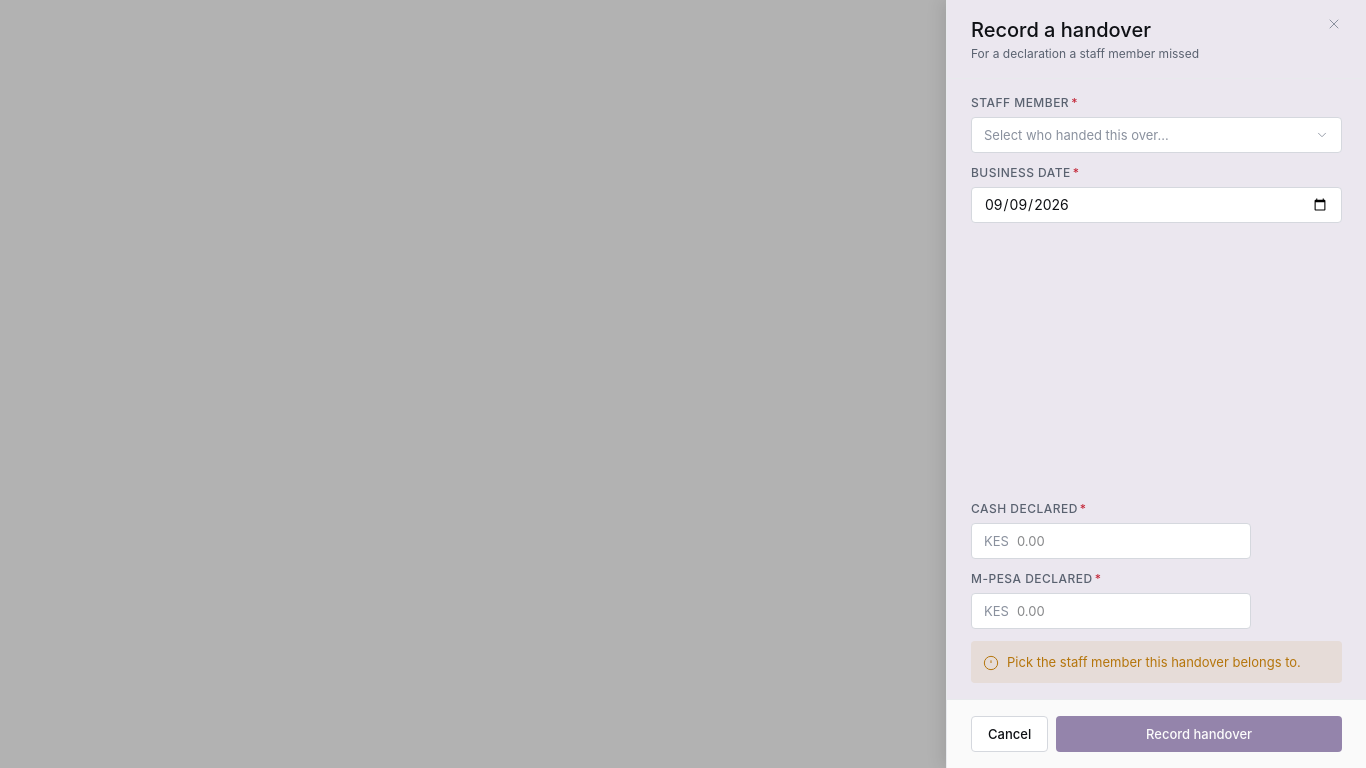
Test: RecordHandoverDrawer › filters the staff options to cashier / canteen_attendant, active only
Click the dropdown named "Staff member" at {"x": 1156, "y": 135}, box [971,117,1342,153]
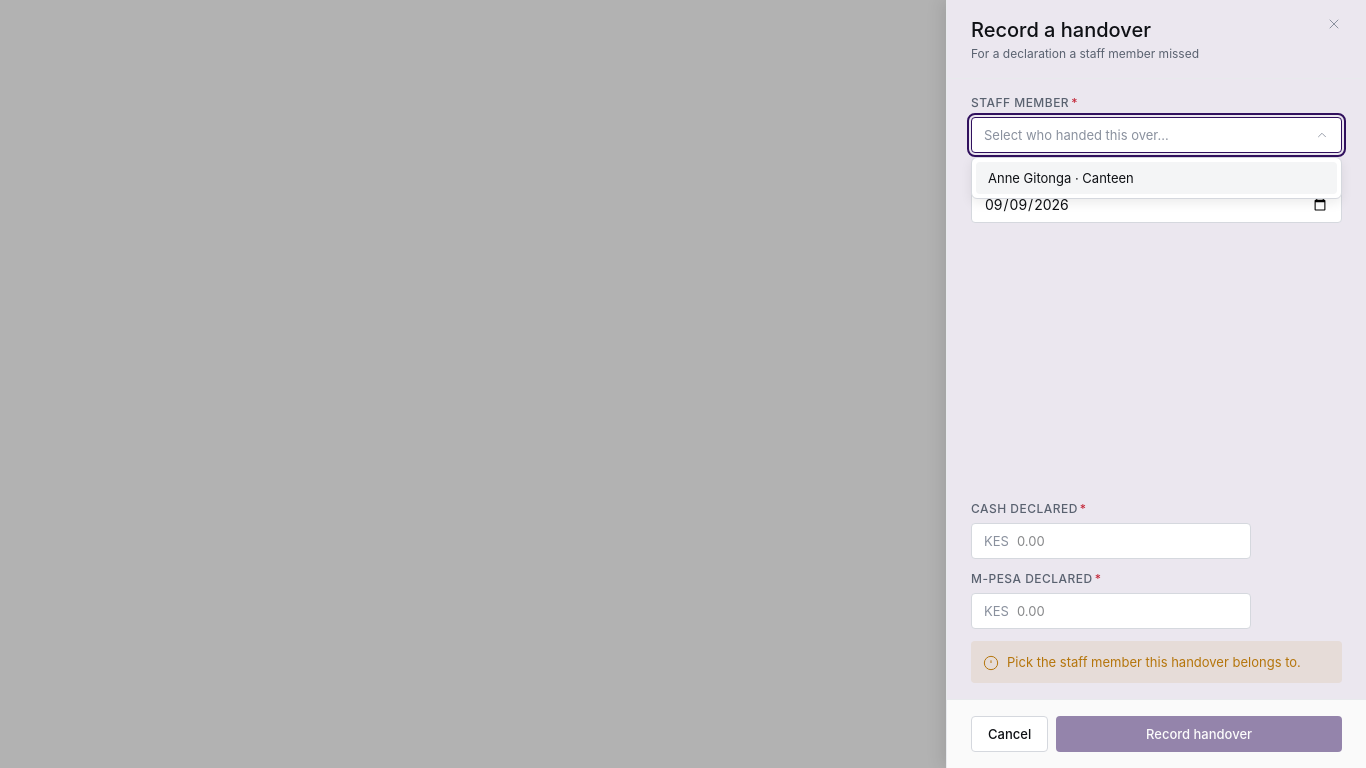
Now the option "Anne Gitonga · Canteen" is shown, box [976,162,1337,194]
